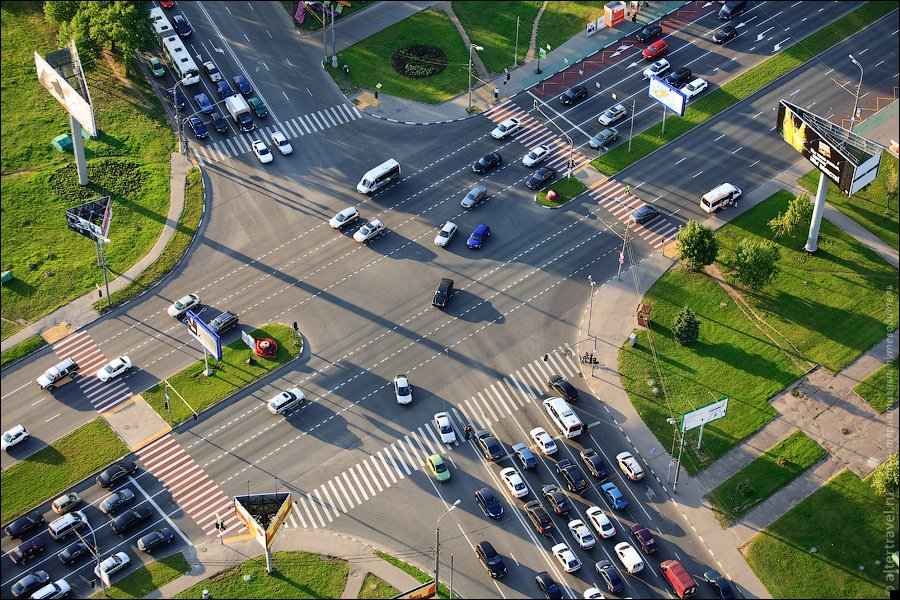car: (146, 7, 201, 86), (542, 396, 584, 439), (355, 158, 402, 196), (658, 559, 698, 599), (35, 356, 80, 391), (699, 182, 743, 215), (475, 540, 508, 580), (224, 93, 256, 133), (4, 509, 45, 540), (95, 459, 138, 488), (110, 505, 153, 534), (47, 510, 89, 539), (9, 535, 49, 565), (523, 499, 556, 535), (266, 387, 306, 416), (555, 458, 588, 493), (9, 568, 50, 595), (541, 483, 573, 517), (585, 506, 617, 539), (595, 559, 626, 593), (473, 429, 504, 462), (614, 541, 645, 574), (137, 527, 174, 554), (704, 569, 736, 600), (474, 487, 504, 520), (547, 374, 580, 404), (96, 355, 132, 382), (98, 489, 135, 515), (58, 538, 95, 564), (499, 466, 529, 498), (94, 551, 130, 577), (579, 447, 609, 478), (615, 450, 645, 481), (551, 542, 581, 573), (167, 292, 202, 318), (528, 426, 558, 456), (533, 571, 564, 600), (31, 578, 71, 600), (600, 481, 629, 511), (568, 519, 596, 550), (630, 523, 658, 554), (352, 218, 385, 244), (1, 423, 31, 451), (433, 410, 457, 444), (206, 310, 240, 334), (511, 442, 539, 471), (471, 151, 503, 176), (327, 206, 360, 230), (465, 222, 492, 251), (526, 164, 556, 190), (597, 102, 628, 127), (426, 453, 451, 483), (431, 277, 455, 308), (490, 117, 522, 140), (522, 144, 552, 168), (51, 492, 82, 515), (588, 127, 620, 149), (433, 220, 458, 248), (460, 184, 487, 209), (678, 77, 708, 99), (630, 203, 661, 224), (558, 85, 588, 106), (662, 66, 692, 87), (393, 374, 413, 405), (717, 1, 748, 21), (643, 57, 671, 79), (250, 139, 274, 164), (641, 39, 669, 60), (186, 114, 209, 139), (271, 130, 293, 155), (171, 13, 193, 38), (165, 86, 186, 112), (712, 25, 738, 45), (636, 23, 663, 42), (202, 59, 223, 83), (247, 96, 268, 119), (209, 110, 228, 133), (233, 74, 253, 95), (193, 92, 213, 113), (148, 57, 165, 77), (582, 586, 605, 600), (217, 80, 233, 99), (158, 1, 175, 10)
